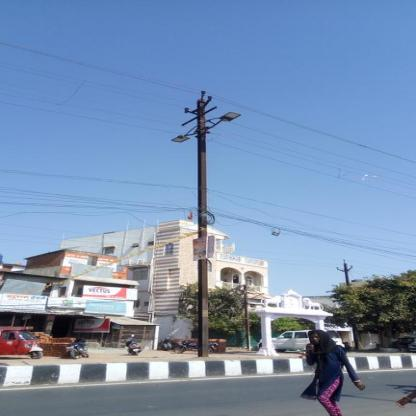Electrical Pole: (157, 85, 247, 357)
